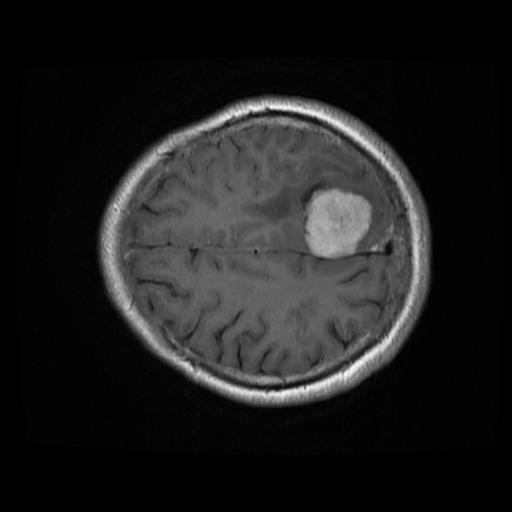meningioma: (302, 187, 373, 260)
